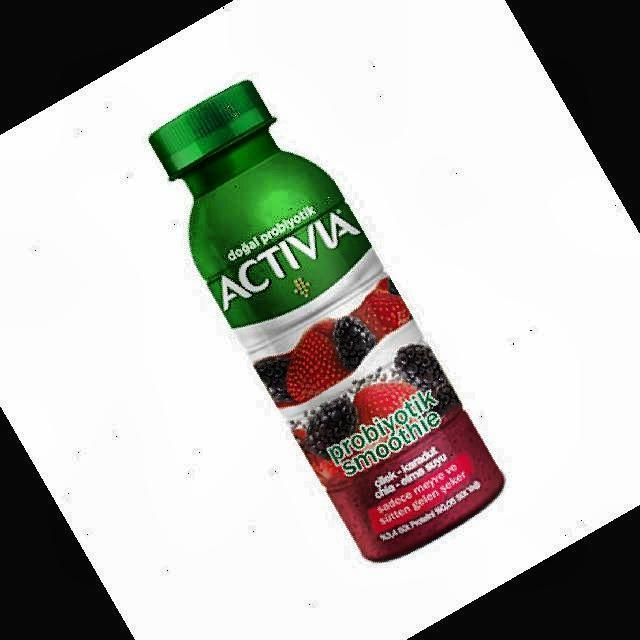plastic: (149, 80, 504, 561)
